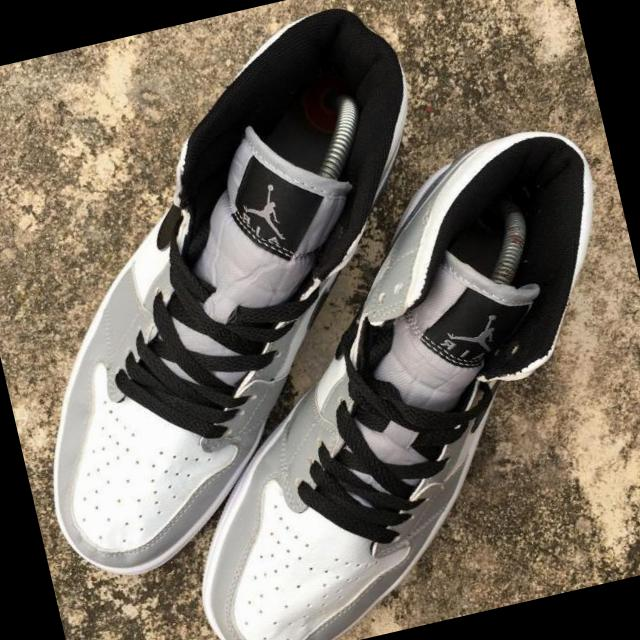nike_fake_jordan: (0, 4, 499, 587), (100, 115, 640, 640)
